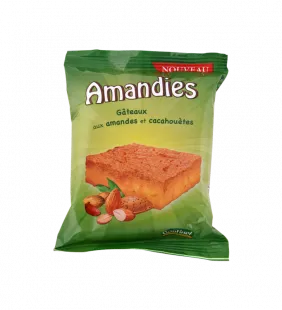GOUTINEL: (44, 43, 237, 269)
